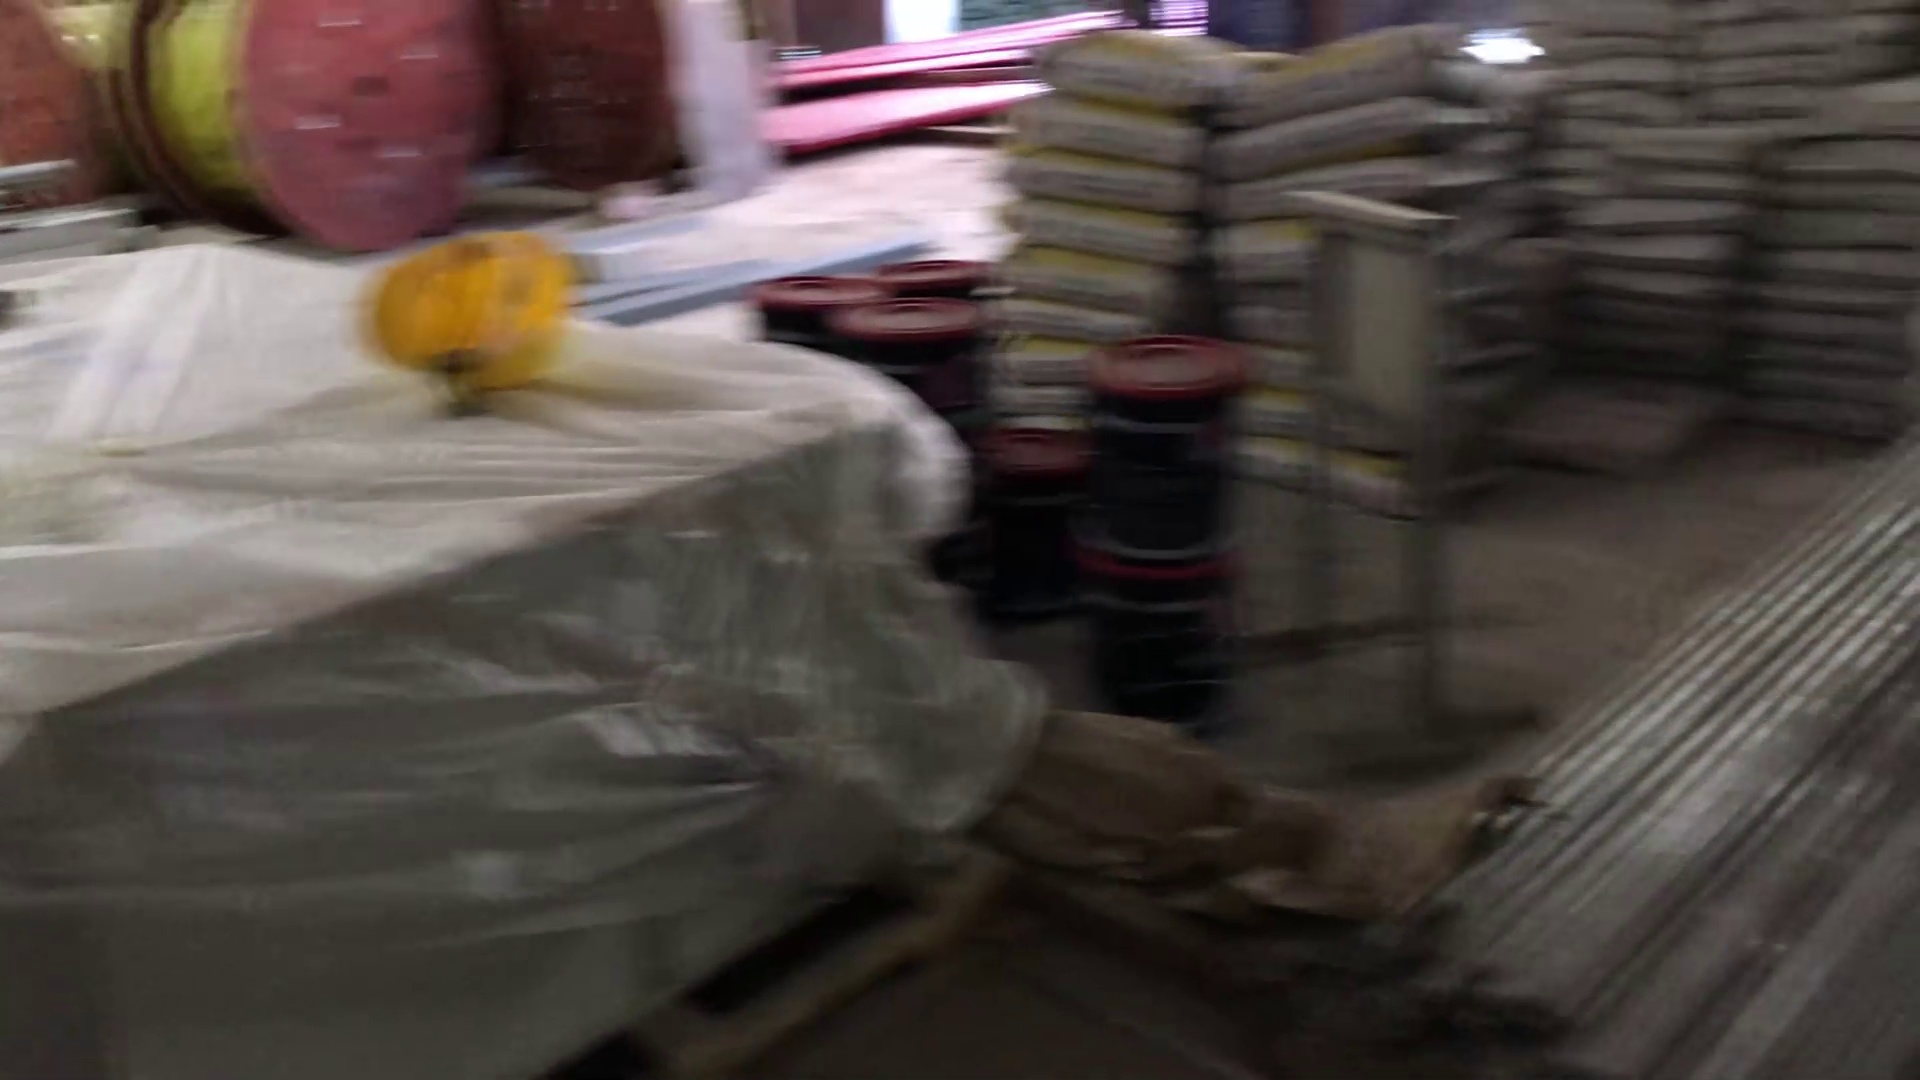helmet: (360, 231, 589, 407)
